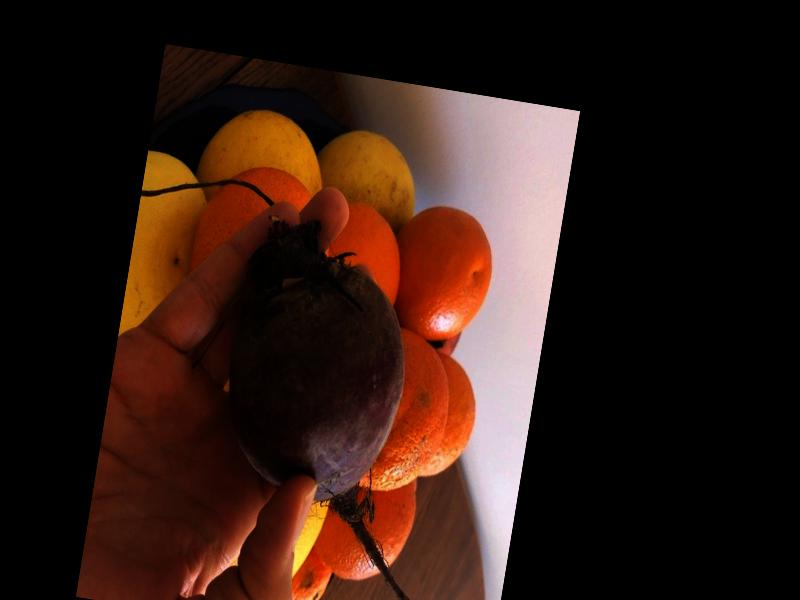Beet: (192, 216, 526, 600)
